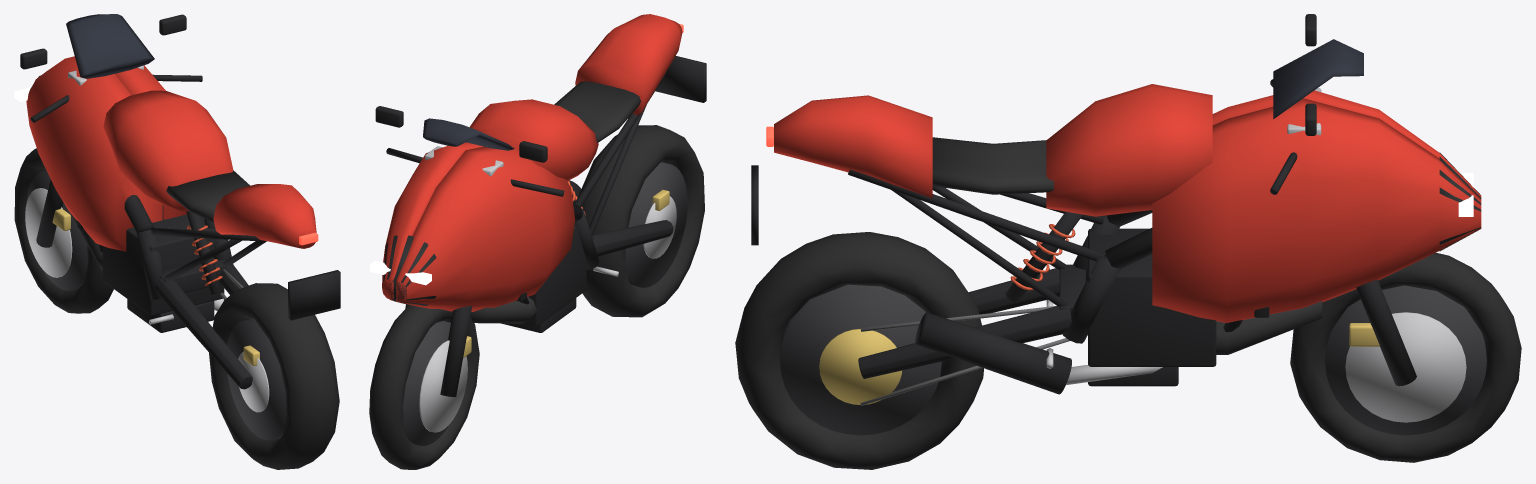
File: sb1000_wip_mobile.glb
3 views of the same model, side by side, from view 1: azimuth 30°, elevation 25°; view 2: azimuth 150°, elevation 25°; view 3: azimuth 270°, elevation 25° (orthographic). The views are drawn at different scales.
Visible parts, largest first — view 1: RearTyre, FairingL, Tank, Engine, Tail, Screen, Swingarm, FrontTyre, RearRim, FrontDiscL, PlateHolder, Frame (+12 smaller); view 2: FairingL, RearTyre, FrontTyre, Tail, Tank, RearRim, FairingR, Engine, Seat, FrontDiscL, FrontRim, Subframe (+12 smaller); view 3: FairingR, RearTyre, Tank, FrontTyre, RearRim, Tail, Engine, FrontDiscR, FrontRim, Swingarm, Seat, Can (+10 smaller).
Part boxes in pixels (<box>): RearTyre: <box>209,283,339,469</box>; FairingL: <box>26,56,162,251</box>; Tank: <box>103,90,233,211</box>; Engine: <box>103,205,224,332</box>; Tail: <box>213,184,316,248</box>; Screen: <box>66,14,154,78</box>; Swingarm: <box>155,258,252,389</box>; FrontTyre: <box>14,148,113,313</box>; RearRim: <box>227,319,286,440</box>; FrontDiscL: <box>25,188,72,277</box>; PlateHolder: <box>288,270,340,320</box>; Frame: <box>98,195,233,300</box>; FairingL: <box>396,146,575,311</box>; RearTyre: <box>578,125,704,317</box>; FrontTyre: <box>369,305,479,469</box>; Tail: <box>575,14,682,115</box>; Tank: <box>470,99,598,181</box>; RearRim: <box>625,162,687,287</box>; FairingR: <box>382,142,483,300</box>; Engine: <box>501,226,586,332</box>; Seat: <box>554,81,640,142</box>; FrontDiscL: <box>419,340,467,432</box>; FrontRim: <box>403,321,450,445</box>; Subframe: <box>573,72,666,235</box>; FairingR: <box>1152,98,1481,322</box>; RearTyre: <box>735,232,983,469</box>; Tank: <box>1046,84,1212,216</box>; FrontTyre: <box>1290,252,1521,462</box>; RearRim: <box>780,284,941,435</box>; Tail: <box>774,95,932,198</box>; Engine: <box>1088,228,1216,386</box>; FrontDiscR: <box>1345,312,1466,422</box>; FrontRim: <box>1325,285,1486,435</box>; Swingarm: <box>858,264,1085,378</box>; Seat: <box>932,137,1053,194</box>; Can: <box>915,312,1071,394</box>.
Size of the model in its own units: 0.6869 by 1.21 by 2.08.
